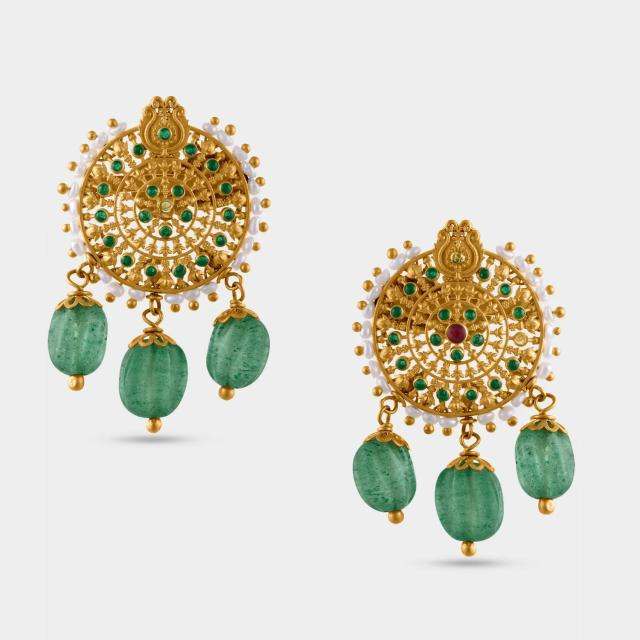missing gem: (451, 251, 466, 264), (160, 200, 173, 213), (515, 334, 527, 345)
